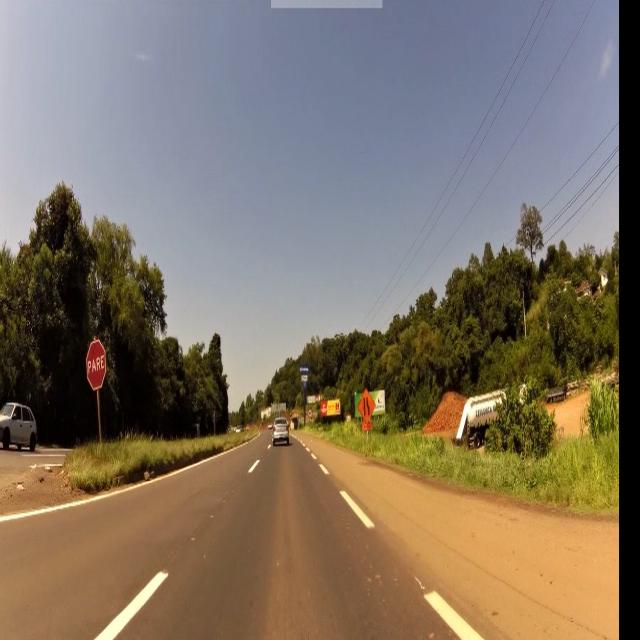A-21e: (358, 386, 378, 425)
R-1: (86, 340, 106, 386)
